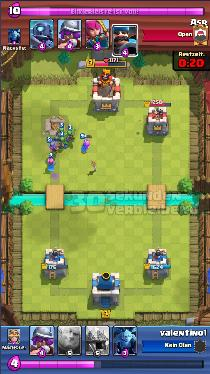ally_archer: (47, 158, 56, 171), (81, 140, 90, 151)
ally_musketeer: (48, 141, 63, 153)
ally_spear_goblin: (58, 136, 68, 147), (66, 128, 75, 140), (56, 128, 64, 138)
